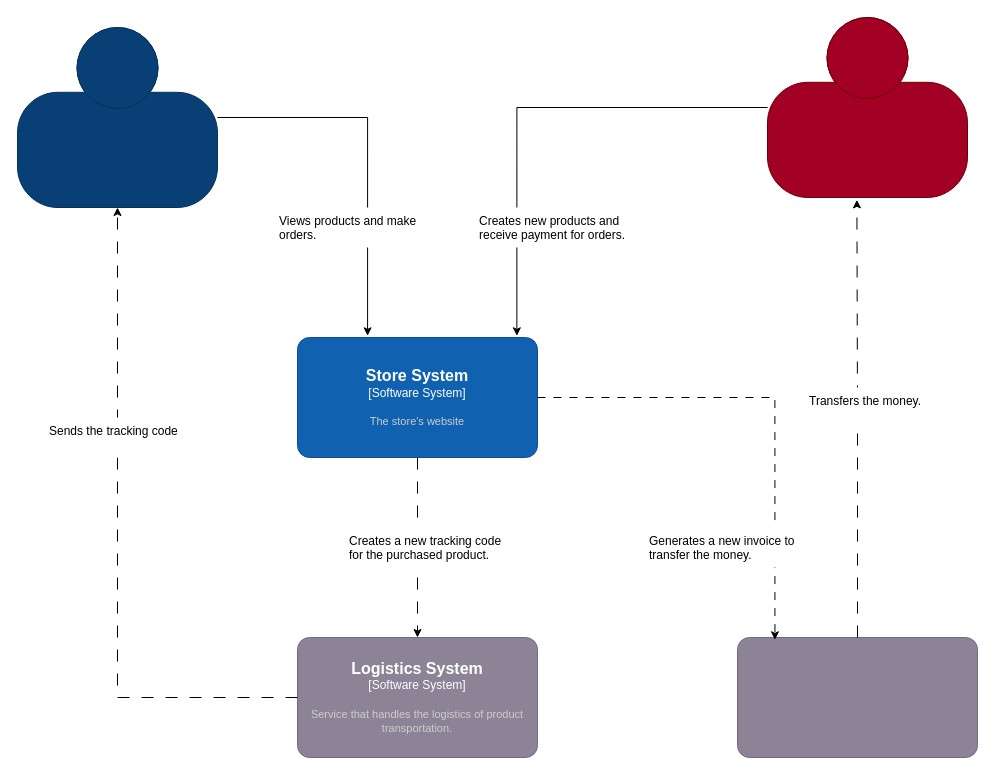
The diagram is 995 pixels wide and 775 high, and some of its shapes have lost their labels. Each missing label, with the centre of its shape:
"Customer [Person] A person who will purchase something at the store." goes at pixel 117 117.
"Payment System [Software System] System that processes payments" goes at pixel 857 697.
"Store Owner [Person] A person who will seller something." goes at pixel 867 107.
